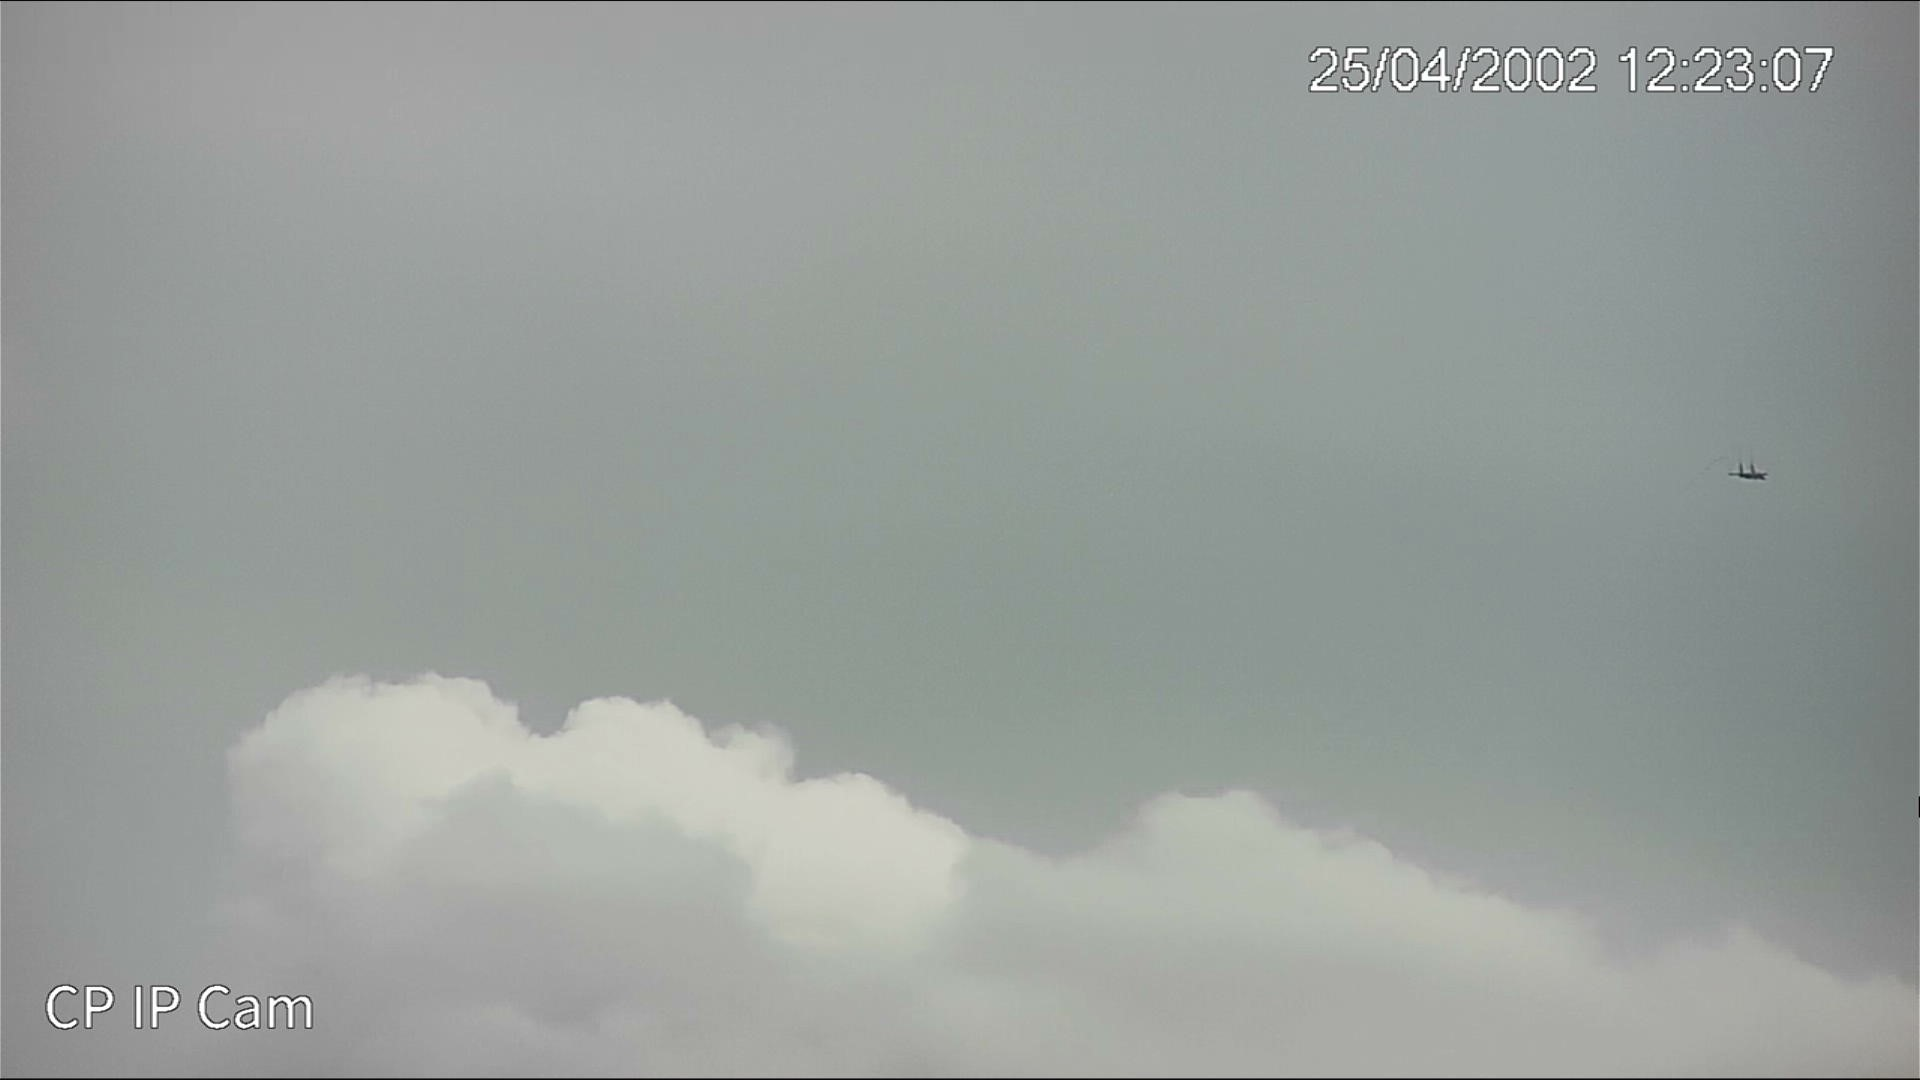SU_30: (1729, 460, 1771, 479)
